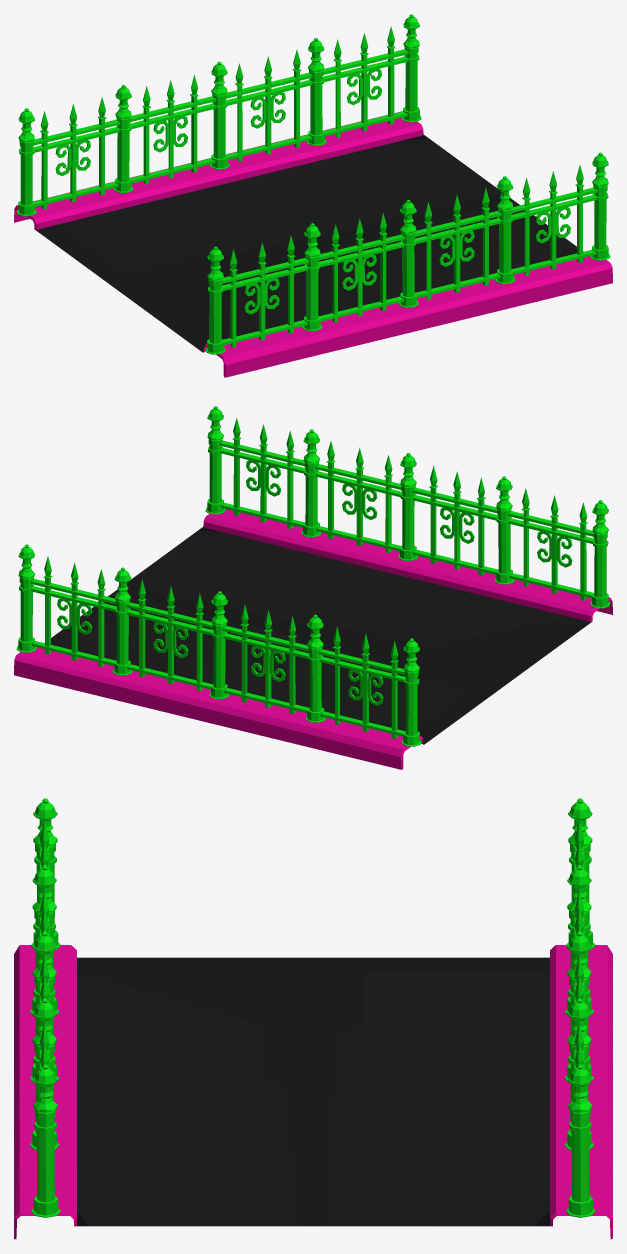
Rendered from City_Fence08.fbx.
The picture shows the model from 3 angles, top to bottom: view 1: azimuth 30°, elevation 25°; view 2: azimuth 150°, elevation 25°; view 3: azimuth 270°, elevation 25°; orthographic projection. The views are drawn at different scales.
Parts seen in each view (by area): view 1: SM_City_Fence_04_Divider_01e.mo; view 2: SM_City_Fence_04_Divider_01e.mo; view 3: SM_City_Fence_04_Divider_01e.mo.
Boxes of the visible parts, x1,y1,x2,y2 form: SM_City_Fence_04_Divider_01e.mo: (14,14,612,377); SM_City_Fence_04_Divider_01e.mo: (14,406,612,769); SM_City_Fence_04_Divider_01e.mo: (14,798,612,1239).
Bounding box in the file's own units: 387 × 113 × 352.
